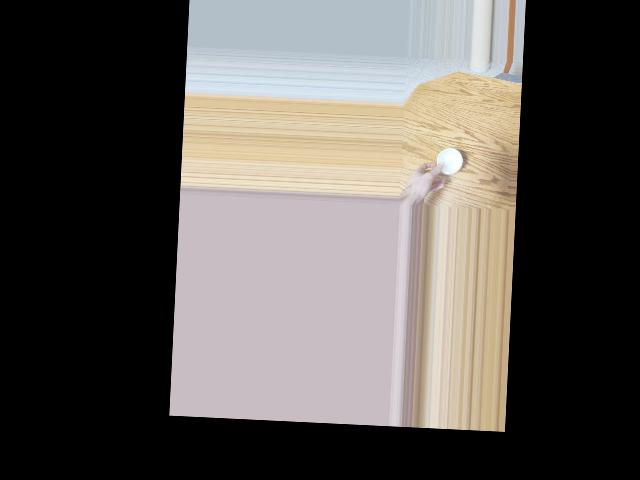cotage: (435, 149, 459, 175)
